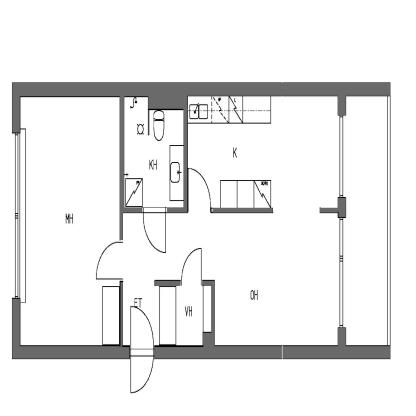door: (124, 94, 340, 344), (20, 96, 118, 346), (343, 94, 389, 346), (124, 95, 185, 205)
window: (129, 304, 154, 394), (142, 207, 169, 257), (94, 240, 123, 282), (182, 246, 206, 290), (187, 169, 211, 212)
zone: (15, 129, 26, 304), (338, 219, 345, 327), (339, 116, 343, 195)
